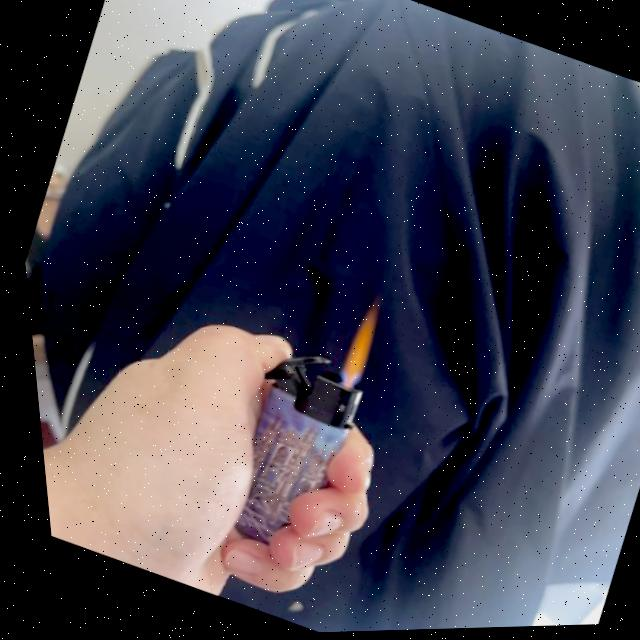Fire: (319, 303, 386, 392)
